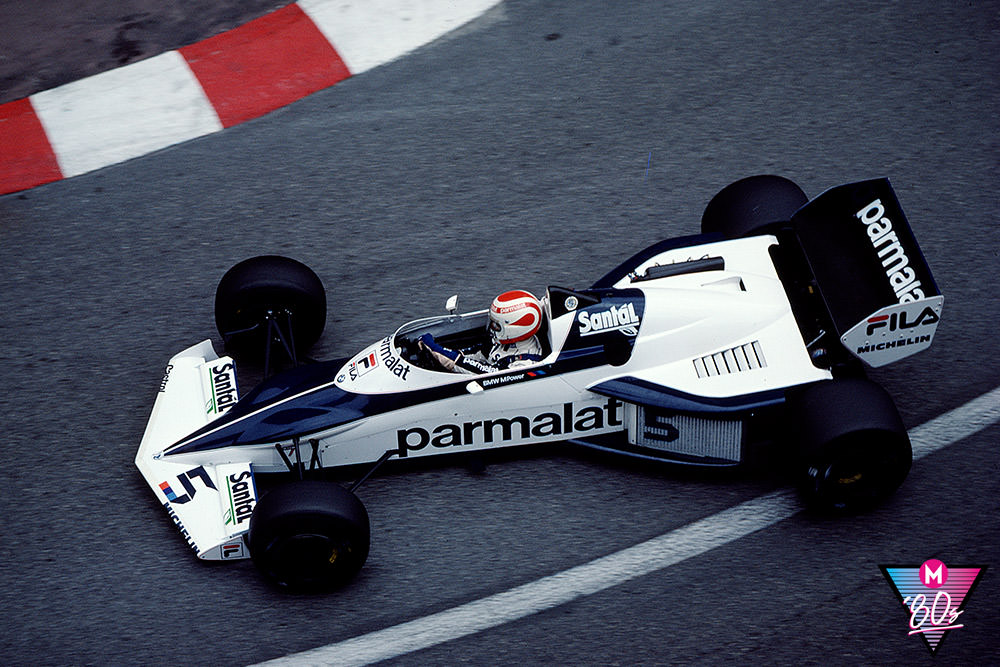f1_car: (122, 155, 971, 620)
helmet: (480, 284, 549, 349)
